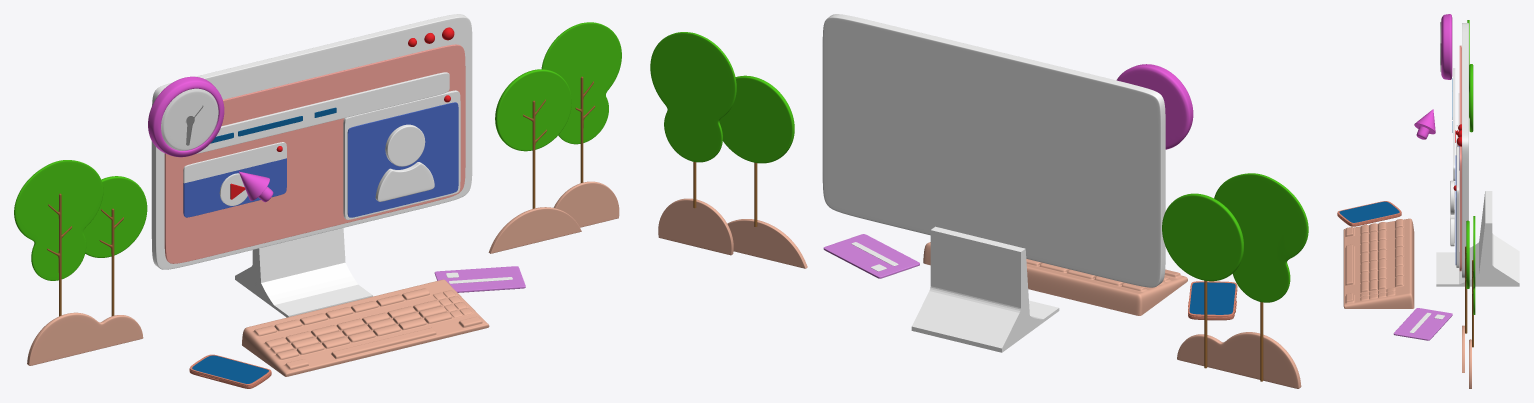
Rendered from Computer.glb.
3 views of the same model, side by side, from view 1: azimuth 30°, elevation 25°; view 2: azimuth 150°, elevation 25°; view 3: azimuth 270°, elevation 25° (orthographic). The views are drawn at different scales.
Visible parts, largest first — view 1: Plane.001, Plane.004, Plane, Plane.014, Circle.010, Plane.002, Circle.006, Plane.009, Circle.003, Circle.012, Plane.015, Circle (+14 smaller); view 2: Plane, Plane.002, Circle.006, Circle.010, Circle.007, Circle.003, Plane.004, Circle, Circle.002, Circle.012, Circle.001, object 22 (+1 smaller); view 3: Plane.004, Plane.002, Plane, object 22, object 21, Circle.012, Plane.001, Plane.013, Circle.011, object 20, Plane.009, Circle.007 (+6 smaller).
Boxes of the visible parts, x1,y1,x2,y2 form: Plane.001: (164, 44, 465, 263); Plane.004: (242, 279, 489, 376); Plane: (151, 14, 472, 269); Plane.014: (347, 102, 458, 217); Circle.010: (14, 160, 103, 280); Plane.002: (235, 228, 372, 317); Circle.006: (541, 22, 621, 144); Plane.009: (196, 72, 449, 153); Circle.003: (495, 69, 571, 151); Circle.012: (148, 76, 224, 157); Plane.015: (183, 142, 286, 217); Circle: (27, 312, 143, 365); Plane: (822, 14, 1165, 287); Plane.002: (911, 226, 1059, 352); Circle.006: (650, 32, 736, 162); Circle.010: (1214, 173, 1308, 302); Circle.007: (1162, 193, 1243, 281); Circle.003: (719, 75, 794, 163); Plane.004: (923, 242, 1187, 315); Circle: (1177, 332, 1301, 388); Circle.002: (658, 198, 733, 255); Circle.012: (1116, 64, 1193, 149); Circle.001: (727, 219, 807, 268); object 22: (823, 234, 919, 278); Plane.004: (1343, 218, 1414, 308); Plane.002: (1436, 191, 1519, 286); Plane: (1462, 23, 1468, 278); object 22: (1393, 308, 1452, 340); object 21: (1339, 201, 1399, 222); Circle.012: (1441, 14, 1452, 79); Plane.001: (1459, 45, 1461, 271); Plane.013: (1456, 146, 1459, 267); Circle.011: (1414, 109, 1435, 139); object 20: (1337, 201, 1401, 226); Plane.009: (1453, 68, 1455, 180); Circle.007: (1469, 64, 1473, 132).
Size of the model in its own units: 3.27 by 1.32 by 1.08.
